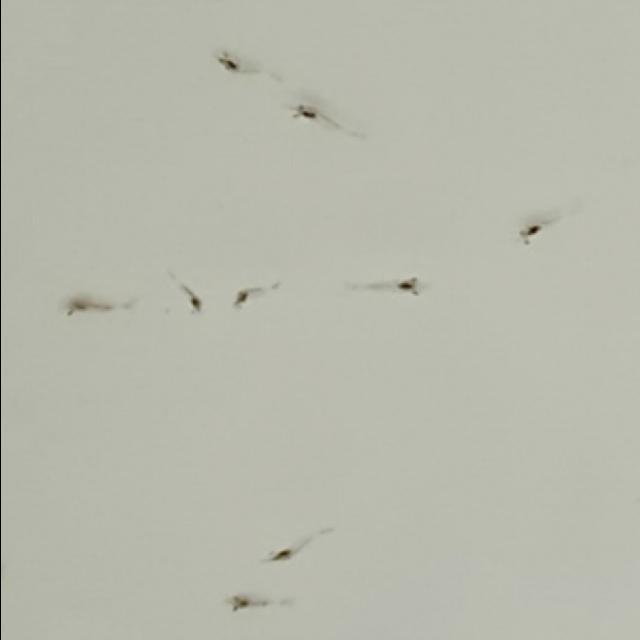shrimp-seed: (58, 290, 104, 320), (285, 94, 325, 124), (511, 218, 544, 250), (258, 542, 296, 568), (388, 272, 422, 300), (208, 46, 242, 74), (222, 590, 260, 614), (225, 286, 252, 314), (180, 286, 204, 316)
